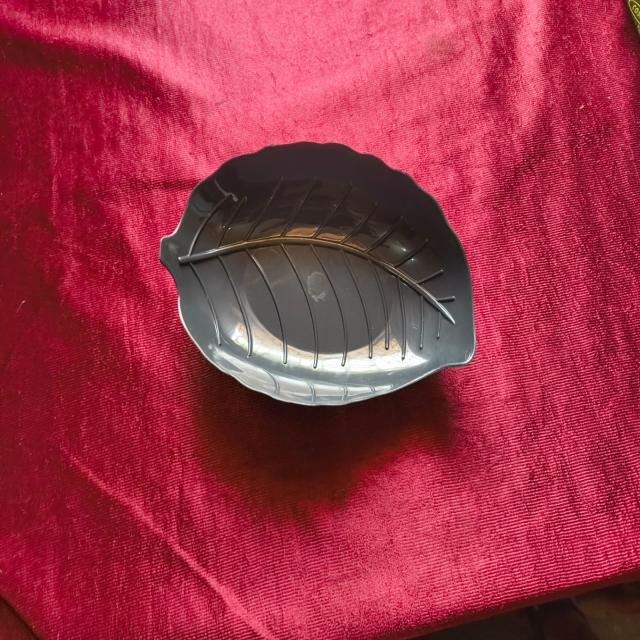pen: (157, 132, 502, 406)
